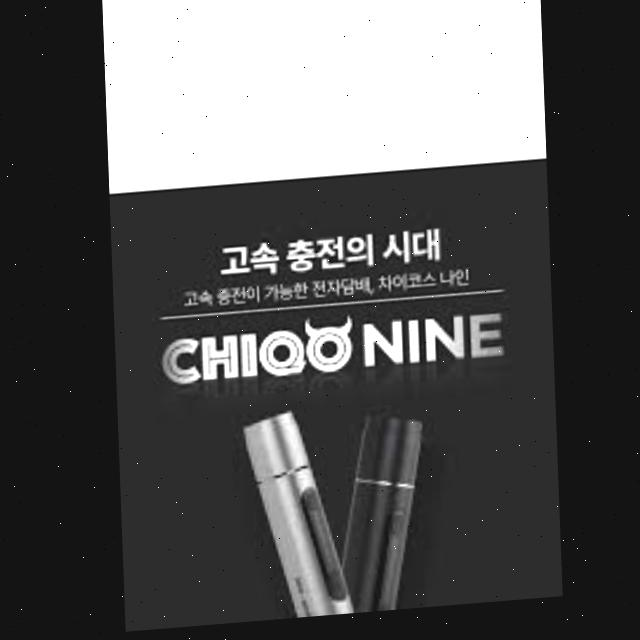vape: (234, 413, 357, 625), (316, 419, 437, 621)
